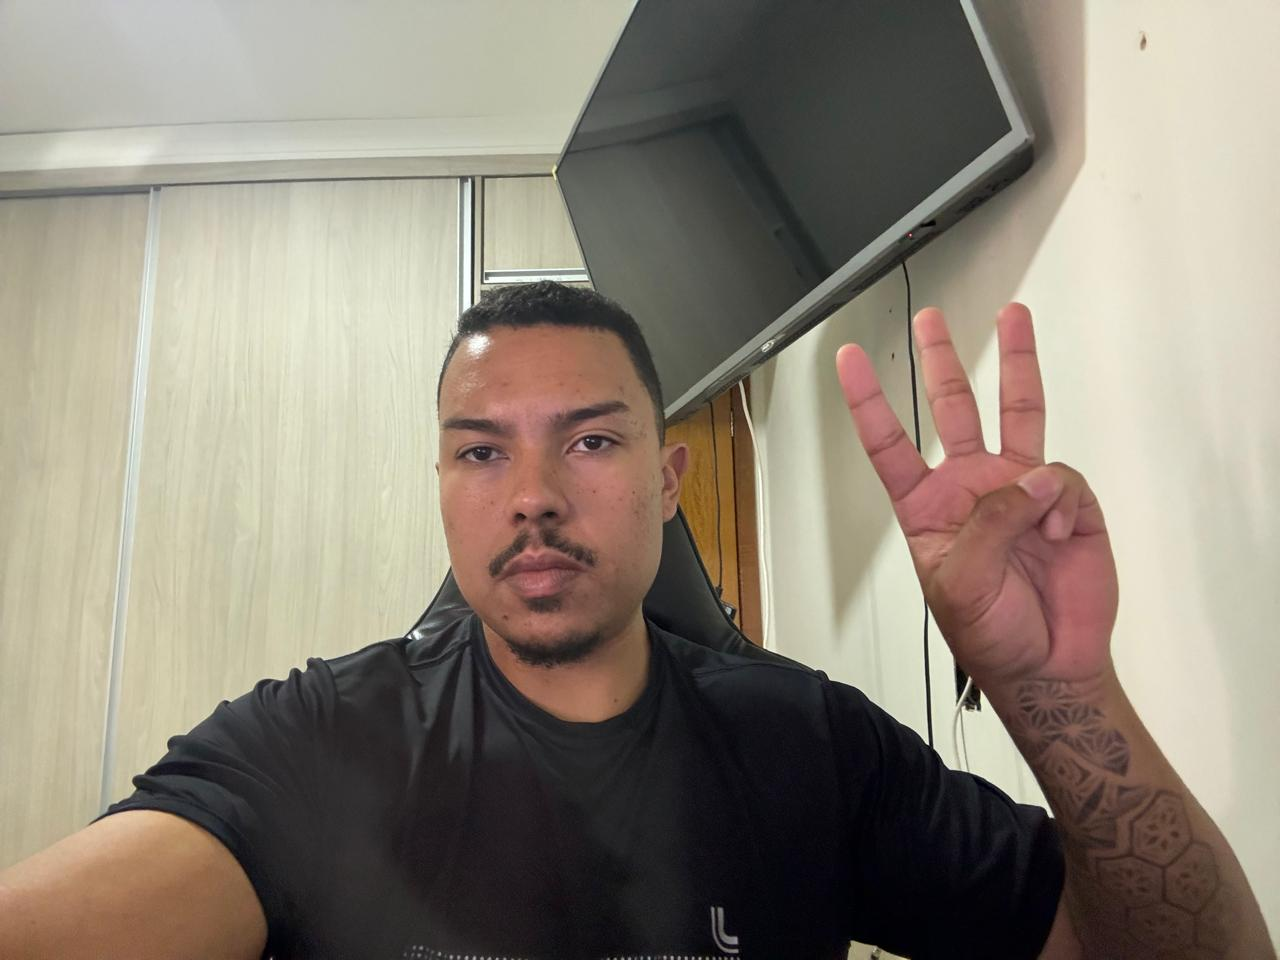w: (829, 297, 1138, 710)
